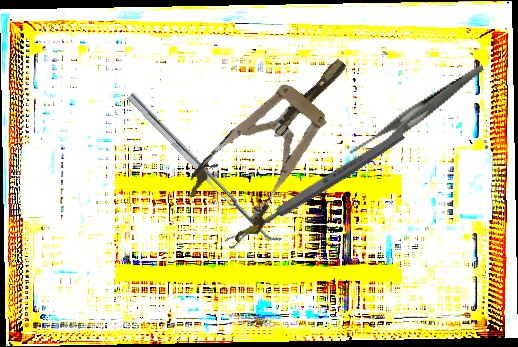Dressing Forceps: (336, 64, 500, 166)
Spatula Surgical: (126, 86, 285, 249)
Speculum: (177, 34, 378, 249)
Surgical Spoon: (223, 128, 407, 251)
